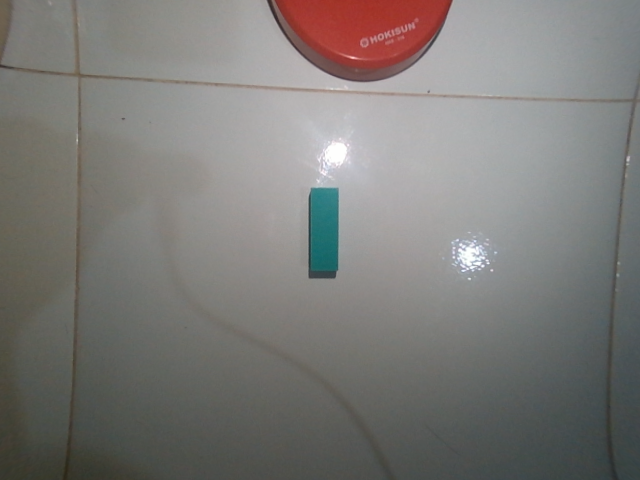Balok-Hijau: (309, 187, 339, 273)
